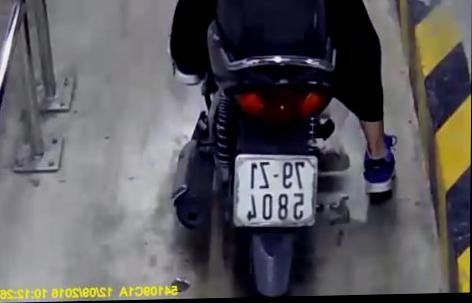License_Plate: (224, 148, 322, 233)
